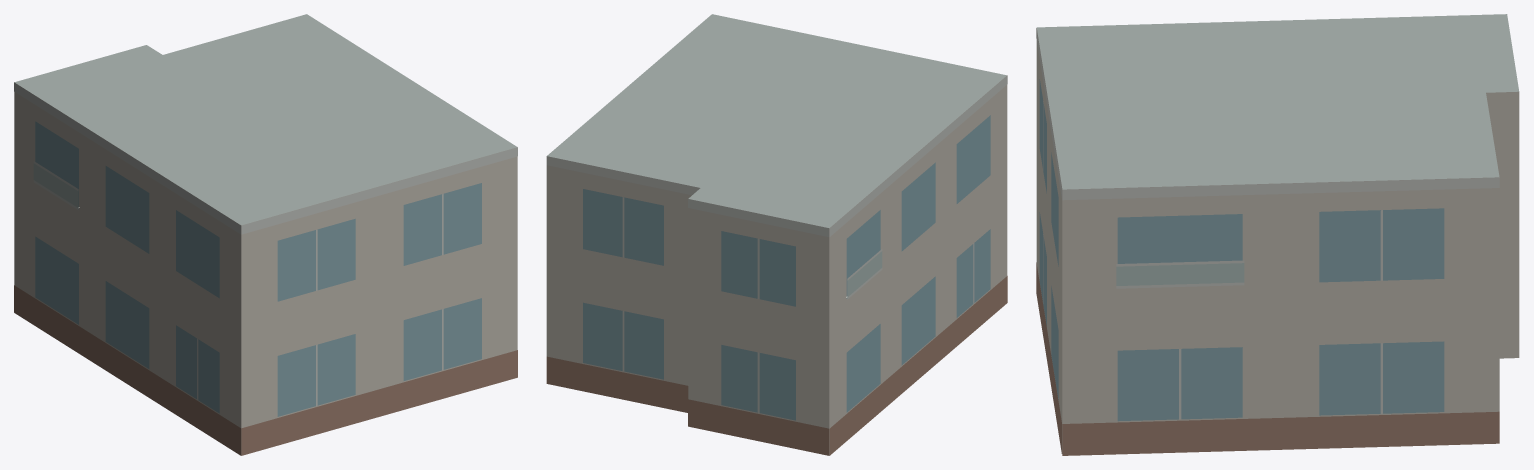
The model's file is survey-upis-32807273.glb.
3 views of the same model, side by side, from view 1: azimuth 30°, elevation 25°; view 2: azimuth 150°, elevation 25°; view 3: azimuth 270°, elevation 25° (orthographic). The views are drawn at different scales.
Visible parts, largest first — view 1: survey-upis-32807273.tmp; view 2: survey-upis-32807273.tmp; view 3: survey-upis-32807273.tmp.
Boxes of the visible parts, x1,y1,x2,y2 form: survey-upis-32807273.tmp: (14,14,517,455); survey-upis-32807273.tmp: (546,14,1007,455); survey-upis-32807273.tmp: (1036,14,1519,455).
Size of the model in its own units: 8.63 by 6.1 by 10.03.
